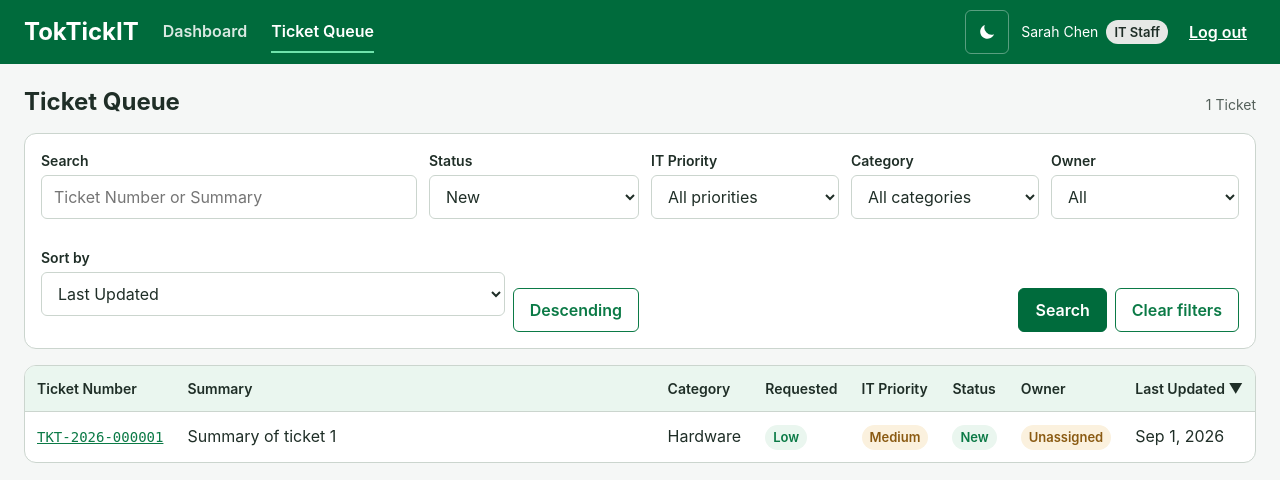
Test: UI-12 filters, sorting and paging (AC-24, AC-26, BR-30) › empties the search box on Clear filters even when that text was never applied
Check: the heading "Ticket Queue" is shown, box [24,88,180,117]
Step 1. Type "never submitted" into the search field labelled "Search" → (229, 197), box [41,175,417,219]
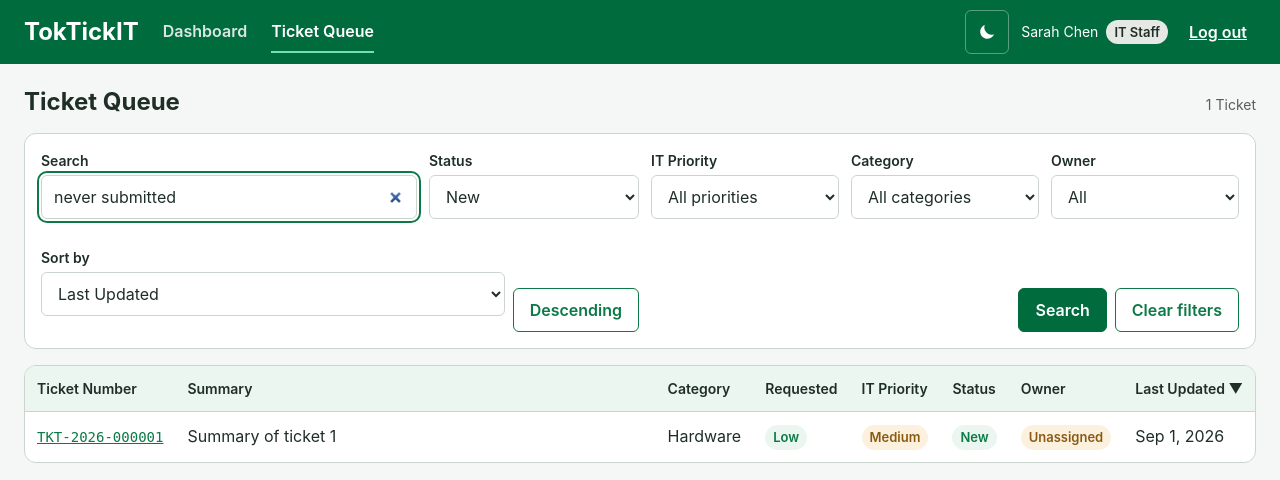
Step 2. Click the button "Clear filters" → (1177, 310), box [1115,288,1239,332]
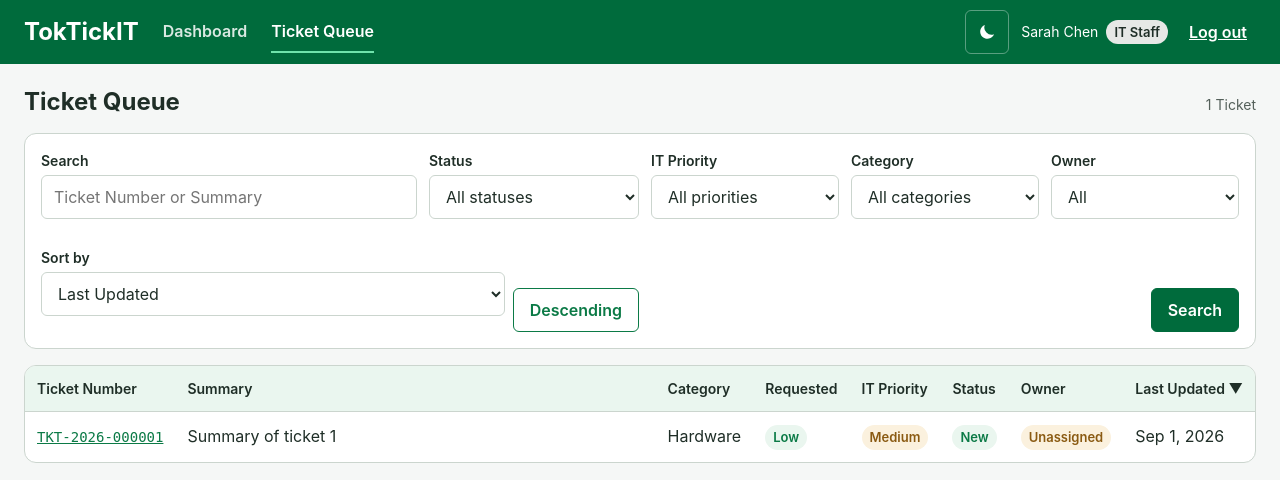
Check: the search field labelled "Search" is empty, box [41,175,417,219]
